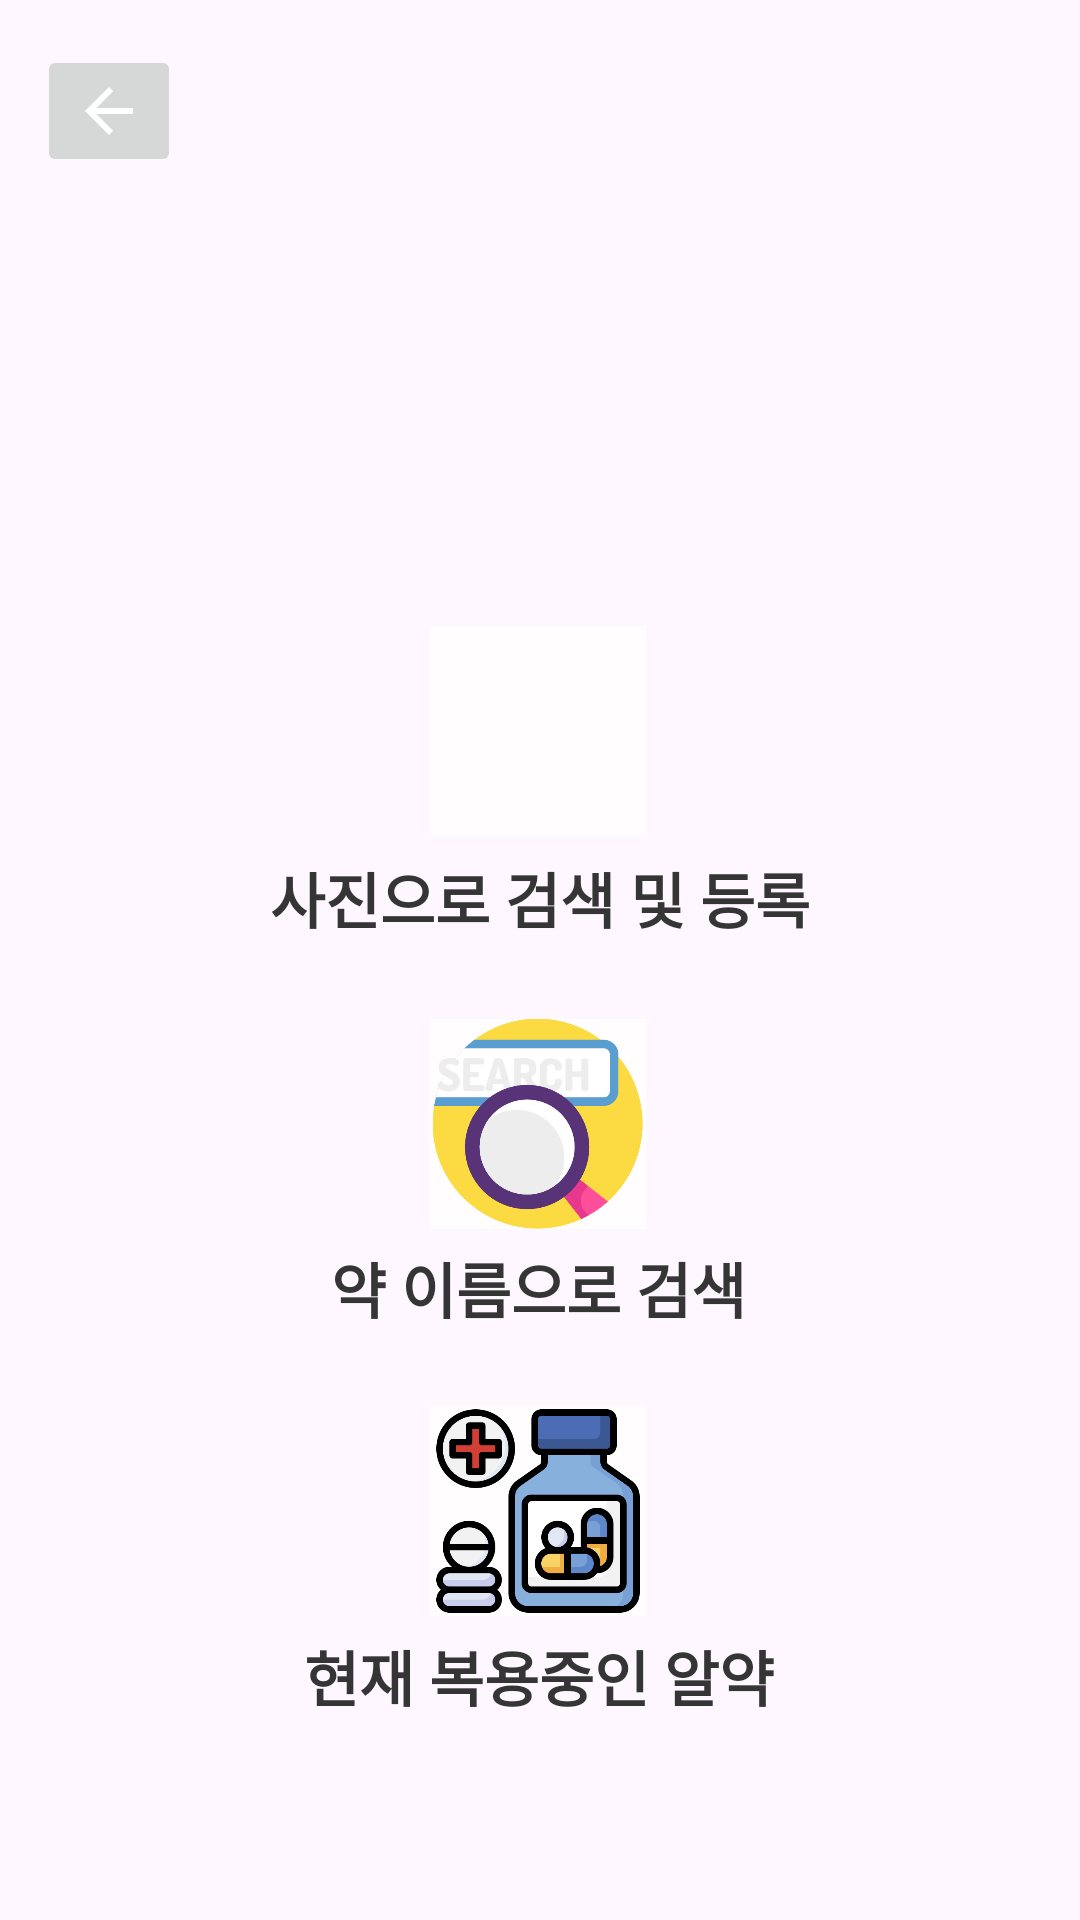

Icon click points for this 1080px x 1920px phone screenshot, format (x=x, y=y):
pill: (x=538, y=1511)
